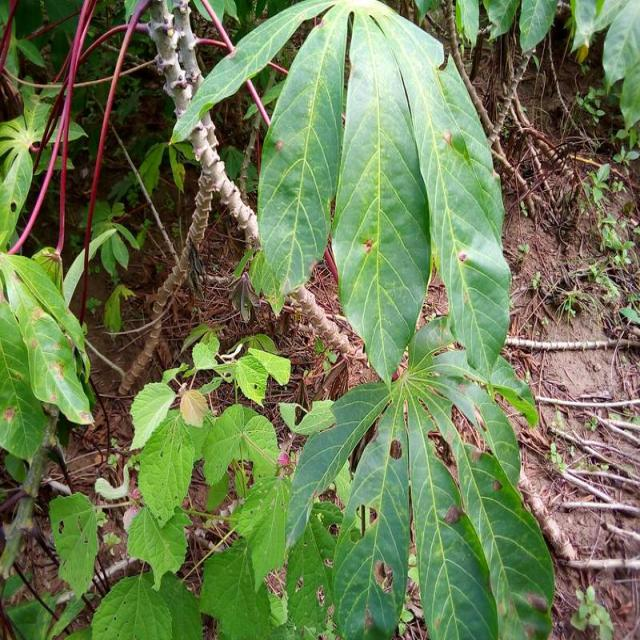cassava leaf: (330, 3, 436, 383), (253, 1, 349, 310)
